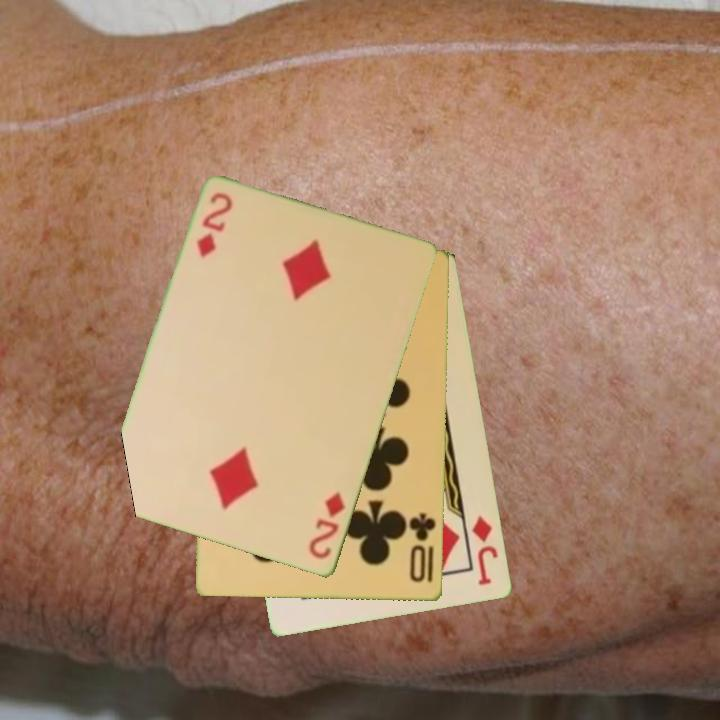10c: (406, 510, 439, 586)
2d: (305, 488, 349, 563), (193, 189, 234, 261)
Jd: (469, 512, 502, 589)
